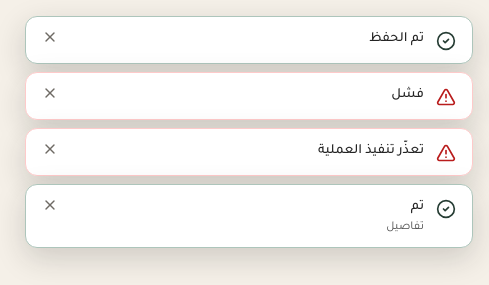
Test: toasts and reportResult › a toast disappears after its duration and can be dismissed
The width and height of the screenshot is (489, 285).
Later steps or results of the test are not shown.
expect the text "تفاصيل" is shown: met, box [386,221,424,233]
Click the 4th button named "إغلاق التنبيه" at [50, 205], box [42,197,58,213]
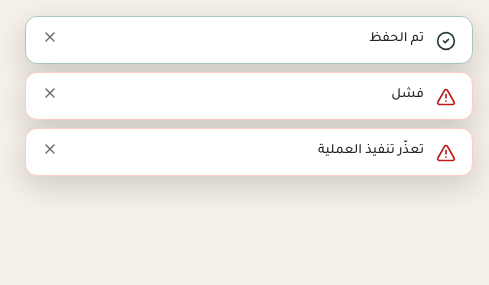
expect the text "تفاصيل" is gone: met
